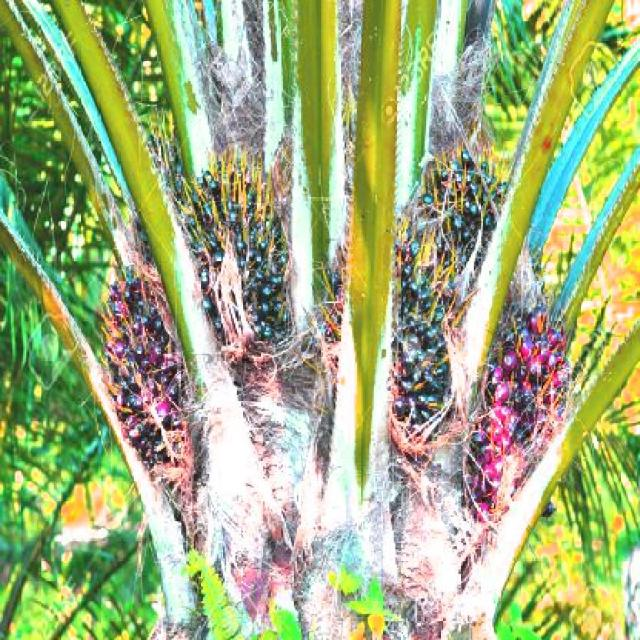palm-oil: (391, 123, 511, 449), (66, 268, 226, 505), (147, 166, 314, 363), (484, 290, 574, 522)
